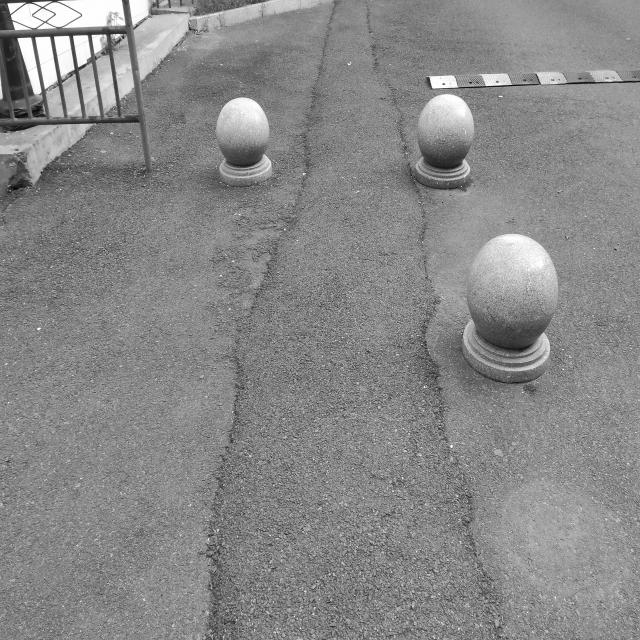spherical_roadblock: (459, 232, 560, 381), (415, 92, 475, 190), (214, 96, 274, 188)
